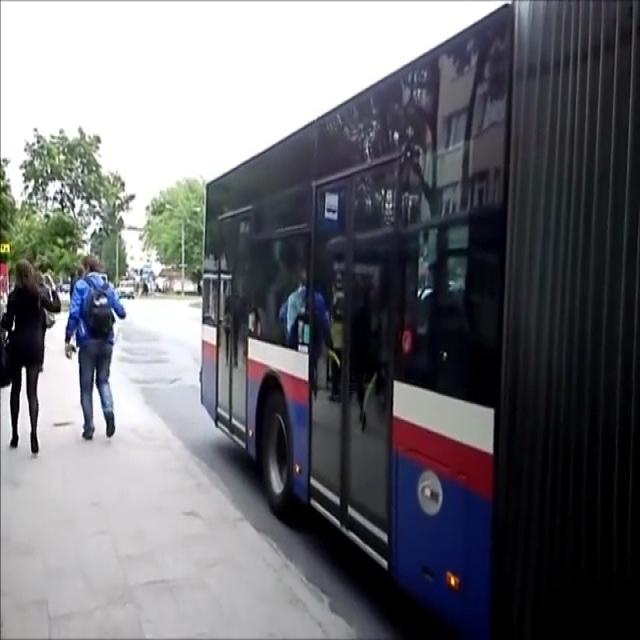bus-door: (312, 178, 409, 558), (214, 218, 254, 444)
